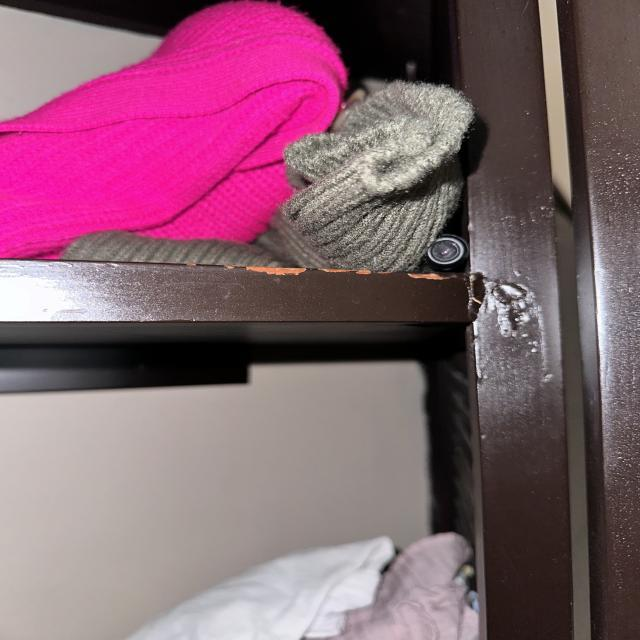hidden camera: (427, 237, 464, 264)
